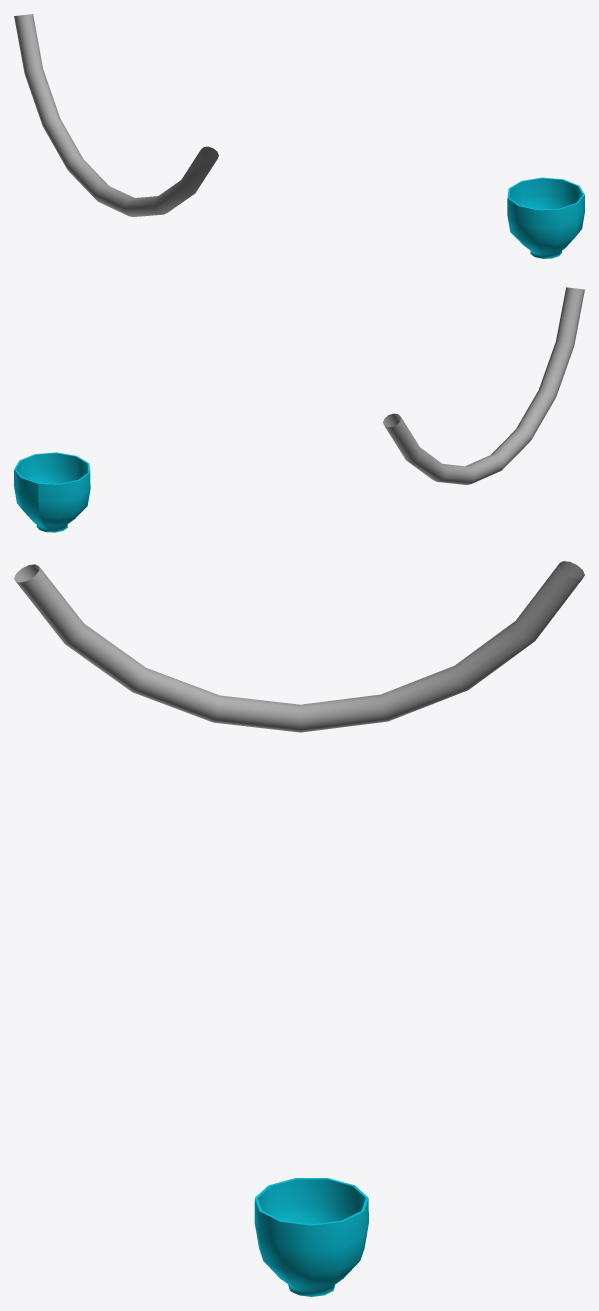
The model's file is robe+ball.fbx.
The picture shows the model from 3 angles, top to bottom: view 1: azimuth 30°, elevation 25°; view 2: azimuth 150°, elevation 25°; view 3: azimuth 270°, elevation 25°; orthographic projection. The views are drawn at different scales.
Parts seen in each view (by area): view 1: robe, boll; view 2: robe, boll; view 3: robe, boll.
Boxes of the visible parts, box(x1,y1,x2,y2) form: robe: box(14, 14, 218, 216); boll: box(507, 177, 584, 258); robe: box(383, 287, 584, 485); boll: box(14, 452, 90, 532); robe: box(14, 561, 584, 732); boll: box(254, 1178, 368, 1296).
Size of the model in its own units: 10.67 by 5.89 by 7.38.
